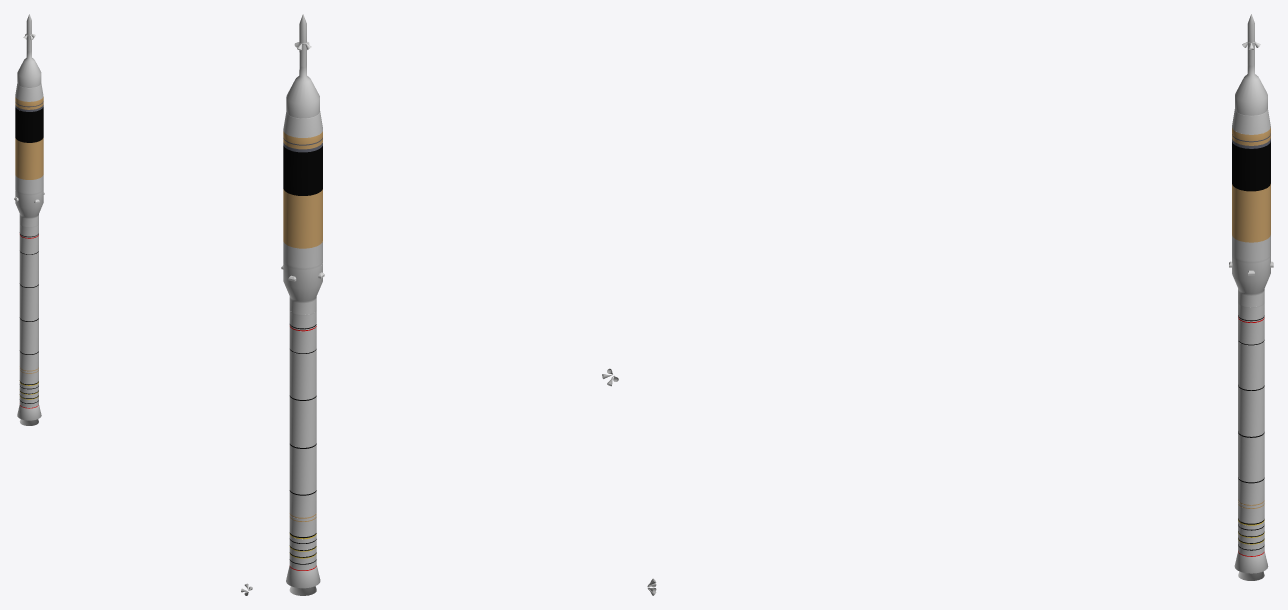
Rendered from ex_ares1.glb.
3 renders of one model, left to right at view 1: azimuth 30°, elevation 25°; view 2: azimuth 150°, elevation 25°; view 3: azimuth 270°, elevation 25°, orthographic. The views are drawn at different scales.
Visible parts, largest first — view 1: pCylinder1; view 2: pCylinder1; view 3: pCylinder1.
Boxes of the visible parts, left/top/right/bottom form: pCylinder1: left=15, top=14, right=43, bottom=425; pCylinder1: left=283, top=14, right=322, bottom=595; pCylinder1: left=1232, top=14, right=1270, bottom=580.
Size of the model in its own units: 0.6979 by 10.01 by 9.77.
